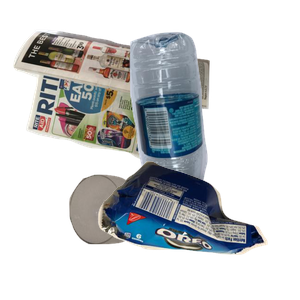glass: (67, 172, 229, 300)
paper: (11, 27, 213, 185)
plastic: (127, 29, 300, 209)
trash: (95, 158, 300, 300)
